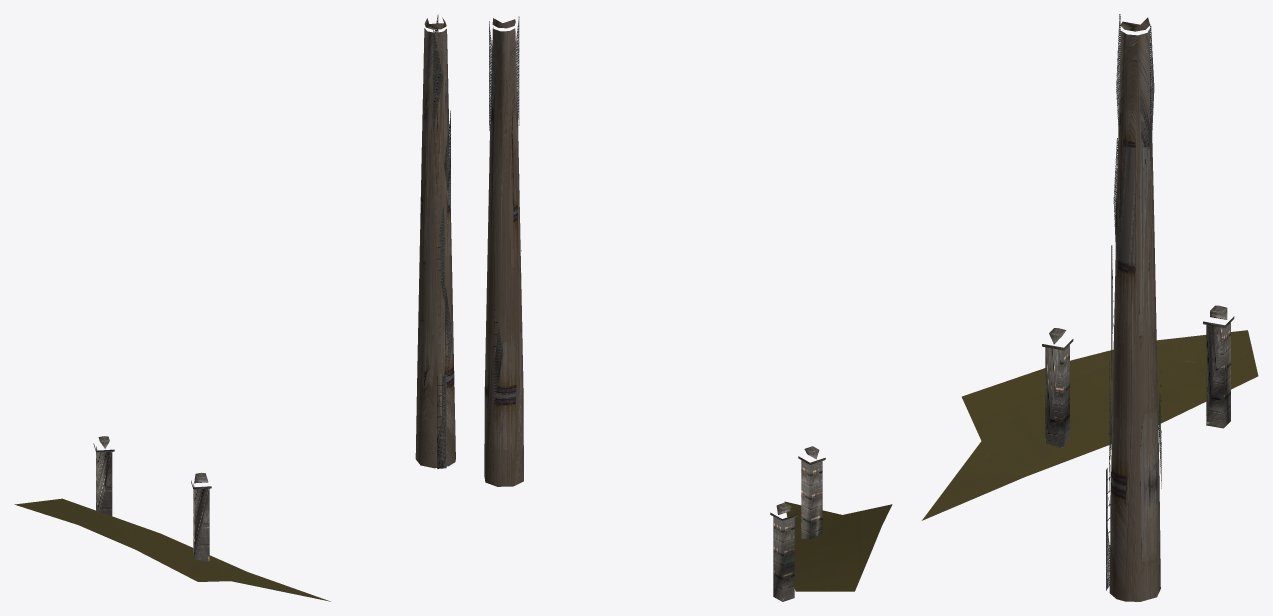
Rendered from world_camden_14_-7.gltf.
3 renders of one model, left to right at view 1: azimuth 30°, elevation 25°; view 2: azimuth 150°, elevation 25°; view 3: azimuth 270°, elevation 25°, orthographic. The views are drawn at different scales.
Size of the model in its own units: 163 by 188 by 92.48.
Materials: 4 (4 with a texture image).
